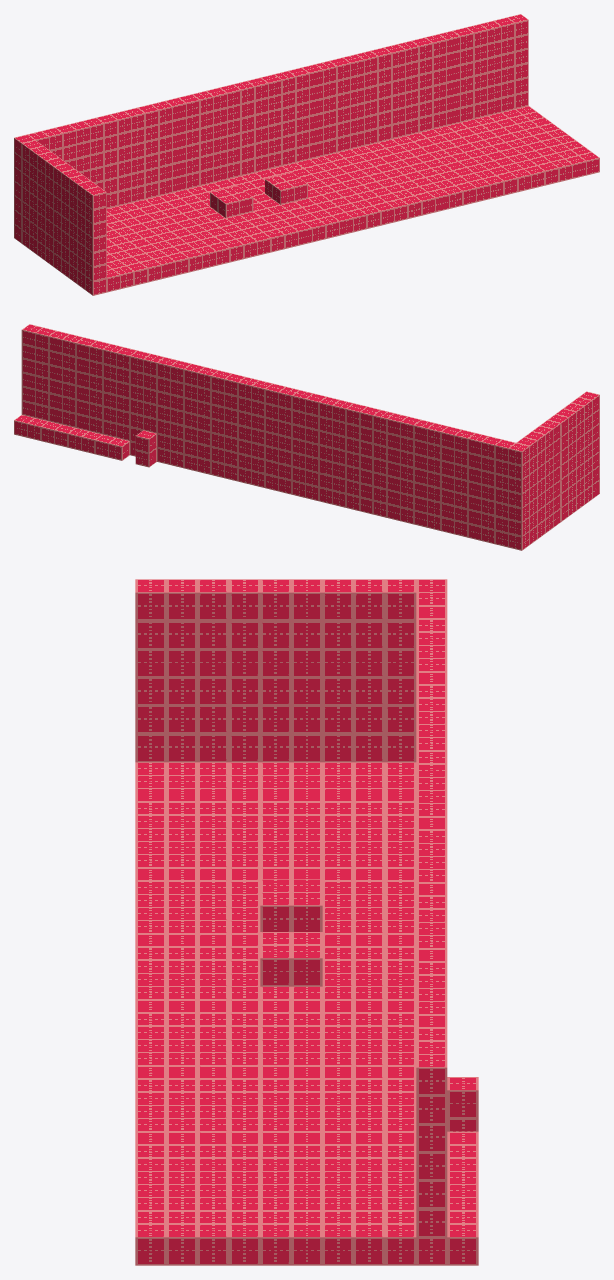
File: tilemap.gltf
3 views of the same model, one above another, from view 1: azimuth 30°, elevation 25°; view 2: azimuth 150°, elevation 25°; view 3: azimuth 270°, elevation 25° (orthographic). The views are drawn at different scales.
Size of the model in its own units: 37 by 7 by 11.
1 material, 1 textured.
